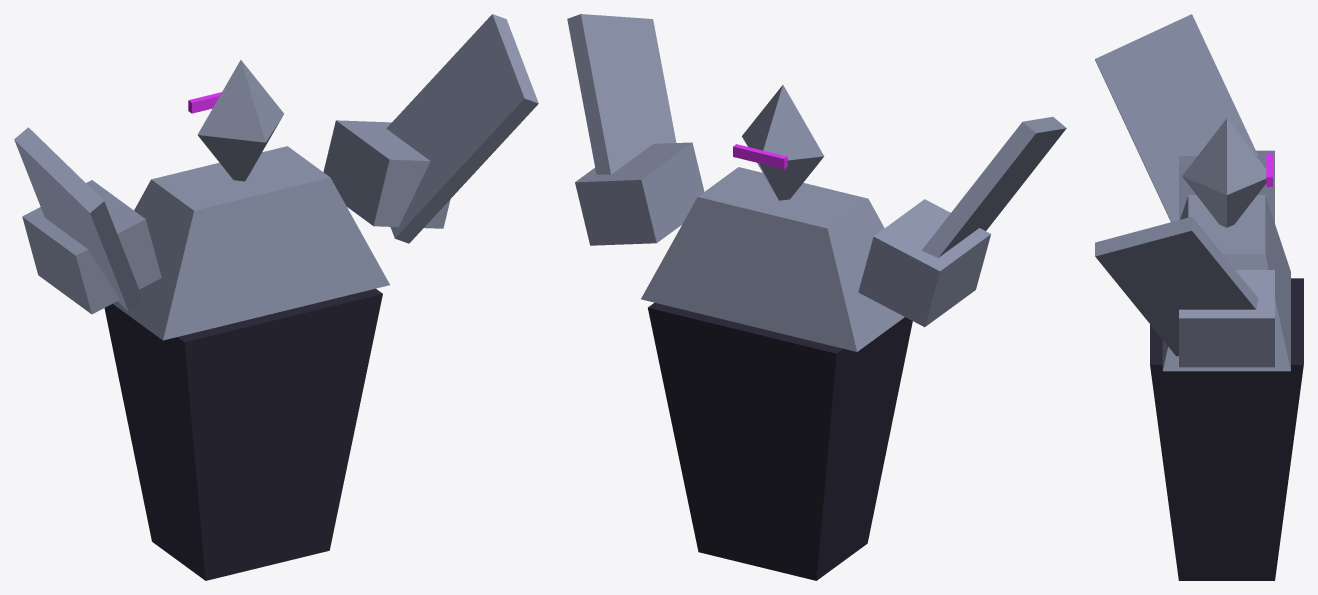
File: boss_spectre.obj
3 views of the same model, side by side, from view 1: azimuth 30°, elevation 25°; view 2: azimuth 150°, elevation 25°; view 3: azimuth 270°, elevation 25° (orthographic). The views are drawn at different scales.
Visible parts, largest first — view 1: plate, body; view 2: plate, body, eye; view 3: plate, body.
Part boxes in pixels (x1,y1,x2,y2): plate: (14,14,538,340); body: (104,288,382,580); plate: (567,14,1066,351); body: (648,302,912,580); eye: (733,144,787,169); plate: (1095,14,1290,371); body: (1150,278,1303,580).
Size of the model in its own units: 2.38 by 2.26 by 0.9768.
